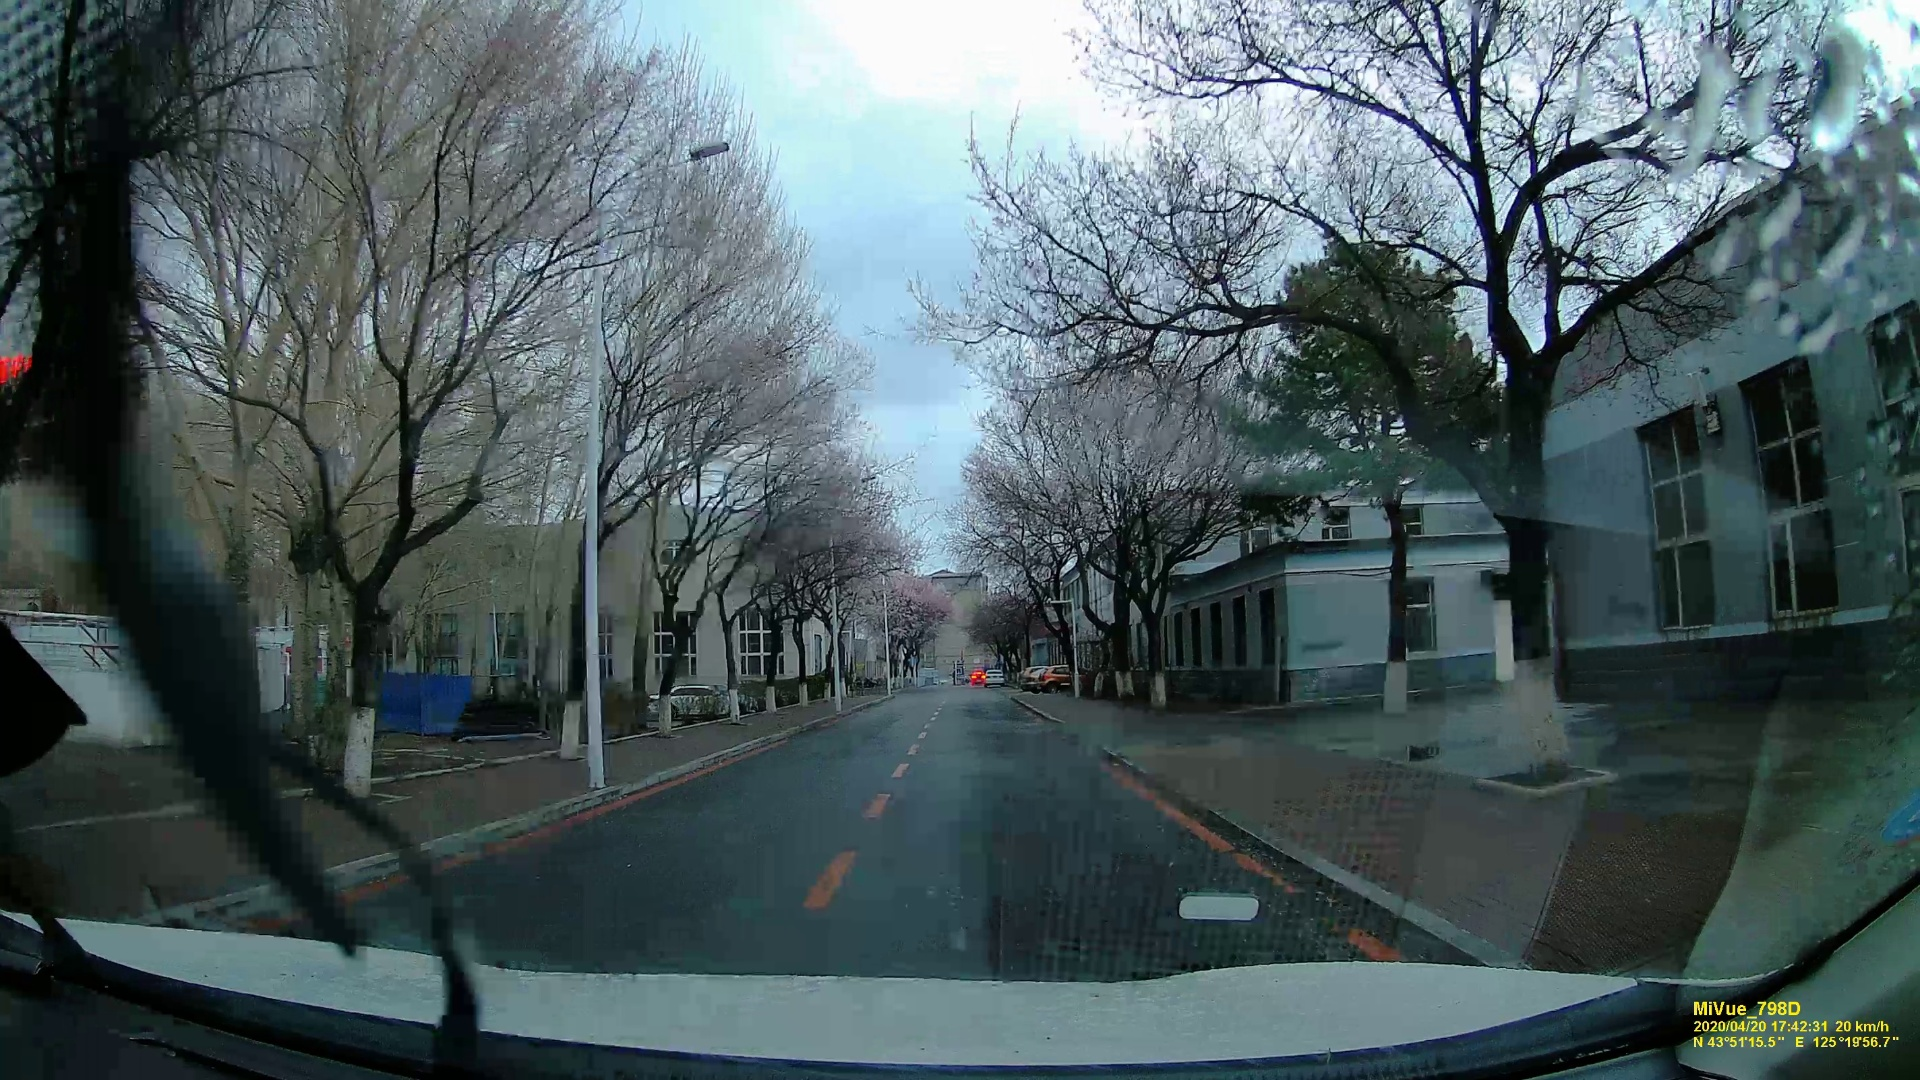vehicle: (647, 684, 750, 720), (1038, 665, 1076, 694), (981, 669, 1005, 688)
